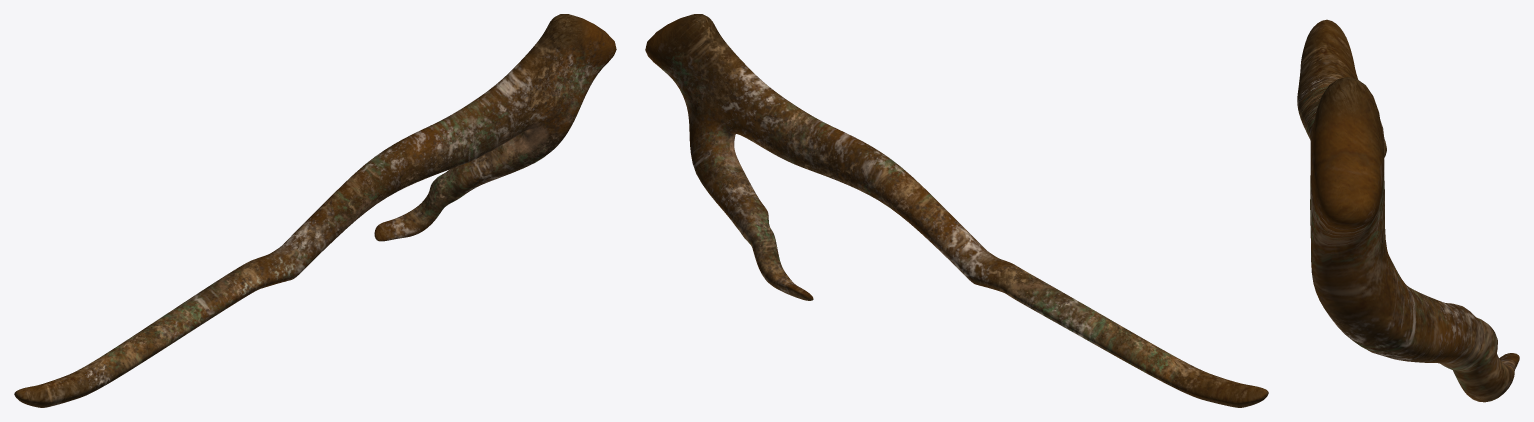
The model's file is txtured branch.fbx.
3 renders of one model, left to right at view 1: azimuth 30°, elevation 25°; view 2: azimuth 150°, elevation 25°; view 3: azimuth 270°, elevation 25°, orthographic. The views are drawn at different scales.
Visible parts, largest first — view 1: pCube1; view 2: pCube1; view 3: pCube1.
Boxes of the visible parts, left/top/right/bottom form: pCube1: left=14, top=14, right=616, bottom=407; pCube1: left=645, top=14, right=1268, bottom=407; pCube1: left=1297, top=19, right=1519, bottom=402.
Size of the model in its own units: 39.04 by 16.16 by 6.24.
